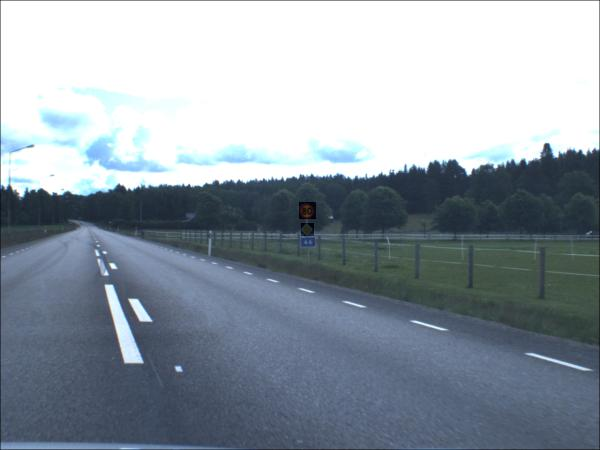80_SIGN: (300, 204, 318, 222)
PRIORITY_ROAD: (303, 224, 317, 238)
